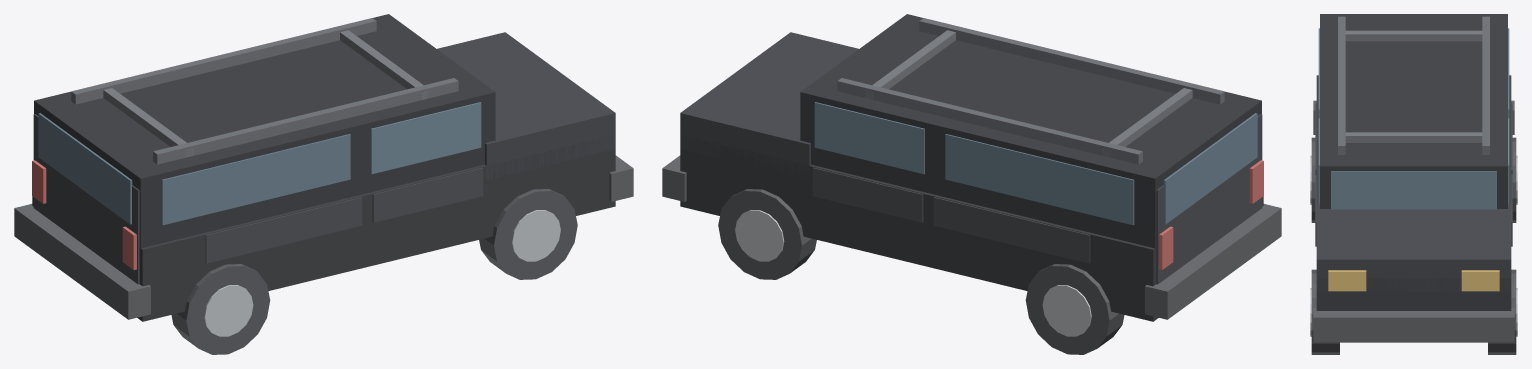
The model's file is survivor-black-suv.glb.
The picture shows the model from 3 angles, left to right: view 1: azimuth 30°, elevation 25°; view 2: azimuth 150°, elevation 25°; view 3: azimuth 270°, elevation 25°; orthographic projection. The views are drawn at different scales.
Parts seen in each view (by area): view 1: Squared cabin and roof, Squared black lower body, Front hood, Right rear cabin window, Rear dark bumper, Rear hatch panel, Right front door window, Right rear door panel, Roof rack right longitudinal rail, Front right low-poly tire, Rear right low-poly tire, Roof rack left longitudinal rail (+9 smaller); view 2: Squared cabin and roof, Squared black lower body, Front hood, Left rear cabin window, Rear dark bumper, Rear hatch panel, Left front door window, Left rear door panel, Roof rack left longitudinal rail, Front left low-poly tire, Rear left low-poly tire, Roof rack right longitudinal rail (+9 smaller); view 3: Squared cabin and roof, Front hood, Front dark bumper, Smoky blue windshield, Squared black lower body, Roof rack rear crossbar, Roof rack front crossbar, Roof rack left longitudinal rail, Roof rack right longitudinal rail, Front left amber lamp, Front right amber lamp, Front left low-poly tire (+6 smaller).
Part boxes in pixels (x1,y1,x2,y2): Squared cabin and roof: (34, 14, 495, 248); Squared black lower body: (32, 135, 615, 321); Front hood: (437, 32, 615, 180); Right rear cabin window: (161, 134, 350, 225); Rear dark bumper: (14, 204, 150, 319); Rear hatch panel: (33, 114, 139, 284); Right front door window: (371, 102, 481, 174); Right rear door panel: (205, 197, 362, 263); Roof rack right longitudinal rail: (153, 78, 458, 164); Front right low-poly tire: (479, 189, 577, 279); Rear right low-poly tire: (171, 264, 270, 354); Roof rack left longitudinal rail: (71, 18, 376, 104); Squared cabin and roof: (800, 14, 1261, 248); Squared black lower body: (680, 135, 1263, 321); Front hood: (680, 32, 858, 180); Left rear cabin window: (945, 134, 1134, 225); Rear dark bumper: (1145, 204, 1281, 319); Rear hatch panel: (1156, 114, 1262, 284); Left front door window: (814, 102, 924, 174); Left rear door panel: (933, 197, 1090, 263); Roof rack left longitudinal rail: (837, 78, 1142, 164); Front left low-poly tire: (718, 189, 816, 279); Rear left low-poly tire: (1025, 264, 1124, 354); Roof rack right longitudinal rail: (919, 18, 1224, 104); Squared cabin and roof: (1320, 14, 1507, 208); Front hood: (1316, 204, 1511, 291); Front dark bumper: (1313, 308, 1514, 342); Smoky blue windshield: (1331, 171, 1496, 209); Squared black lower body: (1316, 75, 1511, 310); Roof rack rear crossbar: (1345, 30, 1482, 41); Roof rack front crossbar: (1345, 132, 1482, 142); Roof rack left longitudinal rail: (1482, 16, 1489, 154); Roof rack right longitudinal rail: (1338, 16, 1345, 154); Front left amber lamp: (1461, 270, 1499, 291); Front right amber lamp: (1328, 270, 1366, 291); Front left low-poly tire: (1488, 269, 1516, 354).
Size of the model in its own units: 4.7 by 1.8 by 1.9.
